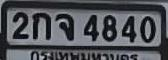0: (139, 15, 154, 42)
2: (12, 11, 28, 38)
4: (121, 14, 135, 42), (83, 14, 97, 40)
8: (102, 14, 116, 40)
A01: (32, 12, 50, 38)
A08: (55, 12, 73, 40)
